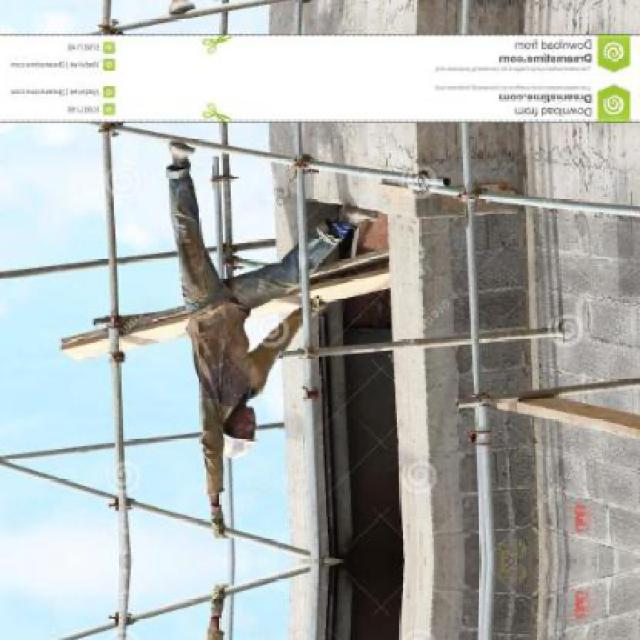con casco: (196, 379, 278, 474)
